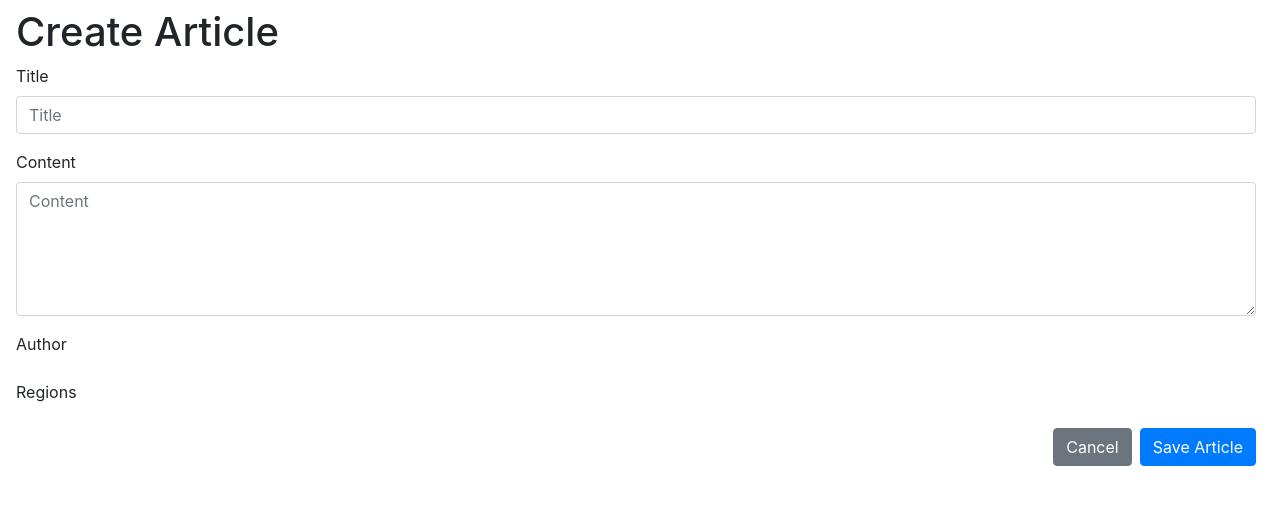
ArticleCreate › displays error messages for empty fields
# Submit the form without filling in the fields
Click the button "Save Article" at (1198, 447), box [1140,428,1256,466]
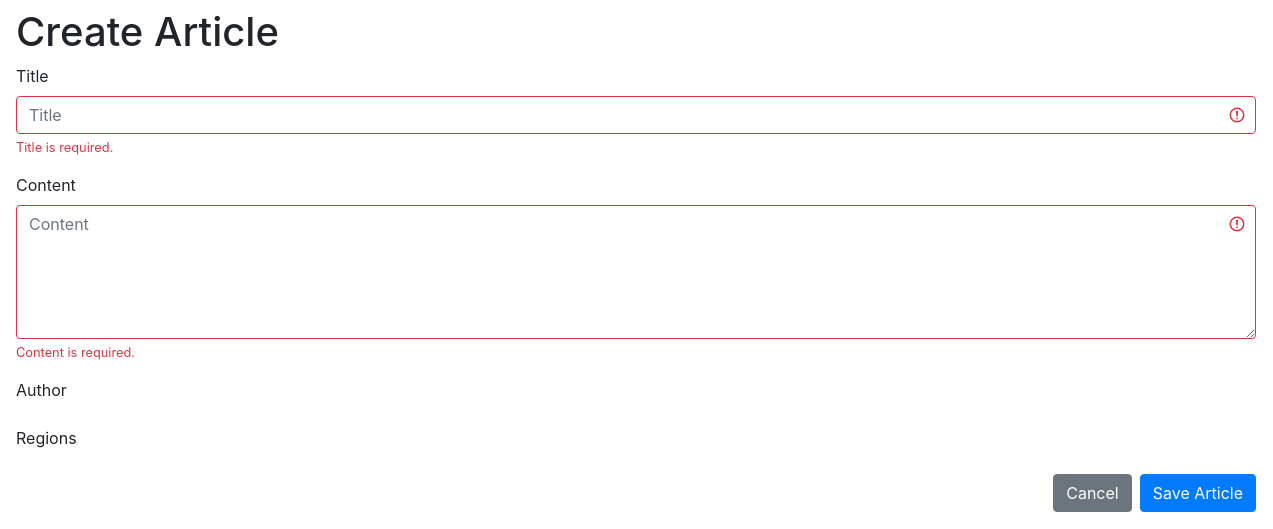
Result: the text "Title is required." is shown at [16,140,113,155]
Result: the text "Content is required." is shown at [16,345,135,360]
